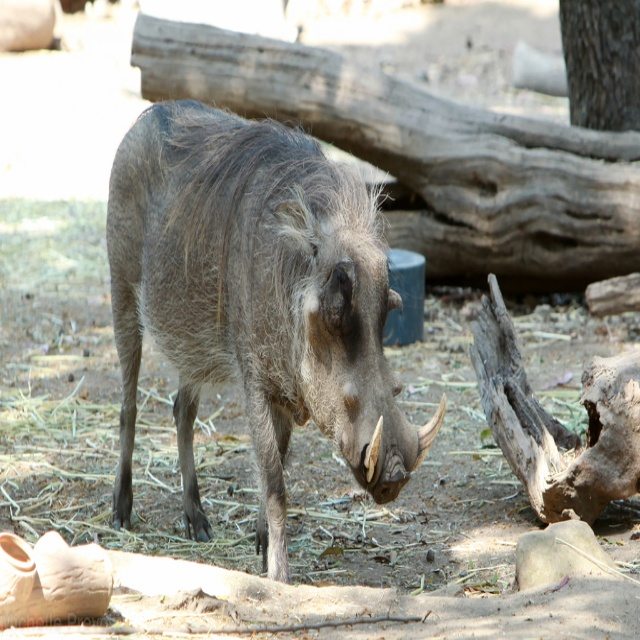Pig: (107, 100, 446, 585)
